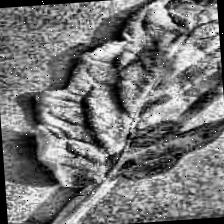leaf mold: (30, 0, 224, 189)
